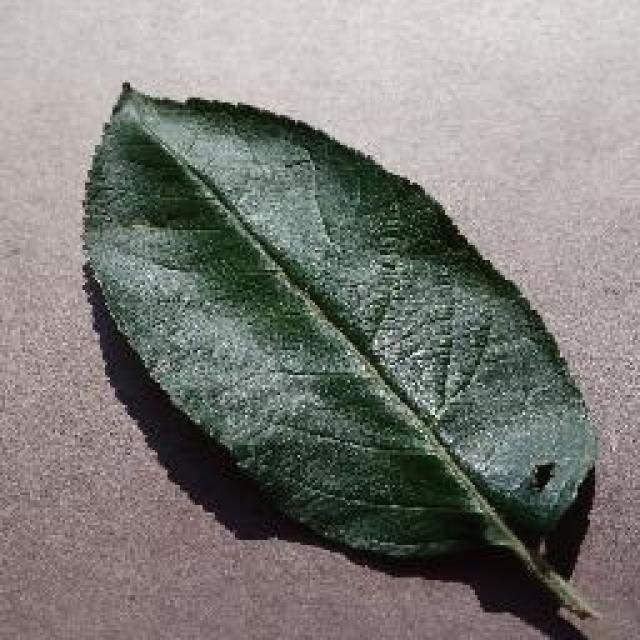apple healthy: (78, 78, 602, 618)
